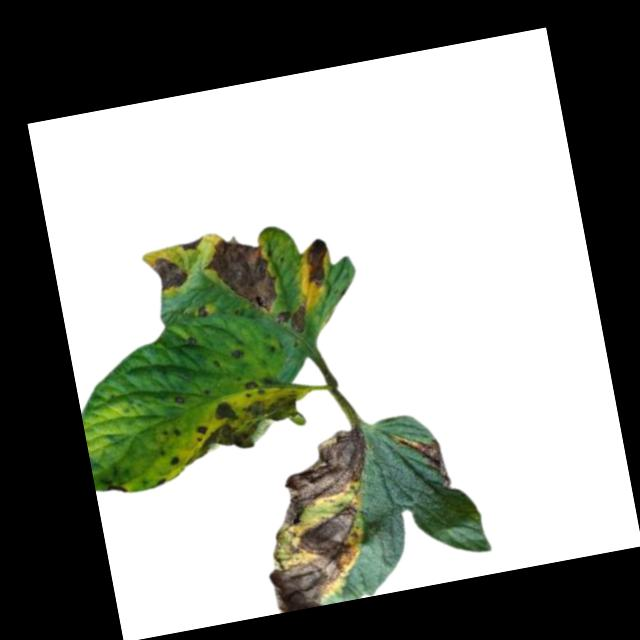Early_blight: (244, 428, 393, 613), (178, 387, 306, 463), (198, 229, 279, 321), (393, 426, 452, 497), (300, 236, 334, 291), (152, 252, 193, 294), (273, 305, 310, 338), (178, 237, 205, 253), (103, 481, 128, 497), (243, 378, 260, 394), (169, 454, 183, 468), (231, 349, 245, 363), (195, 306, 208, 321), (172, 396, 186, 406)
